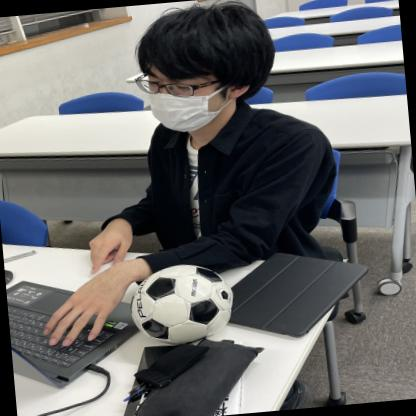ball: (131, 259, 242, 349), (128, 259, 239, 349)
